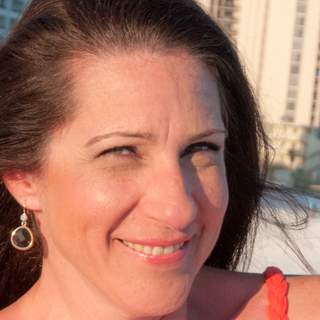eye: (93, 141, 145, 164), (179, 136, 224, 162)
